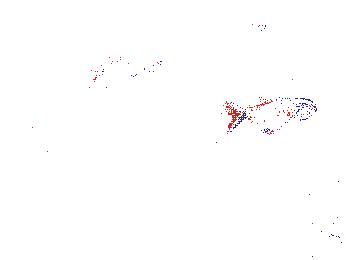glassfish: (219, 101, 324, 166)
red belly glassfish: (234, 18, 269, 33)
redtail glassfish: (222, 94, 321, 133), (89, 51, 164, 84)
